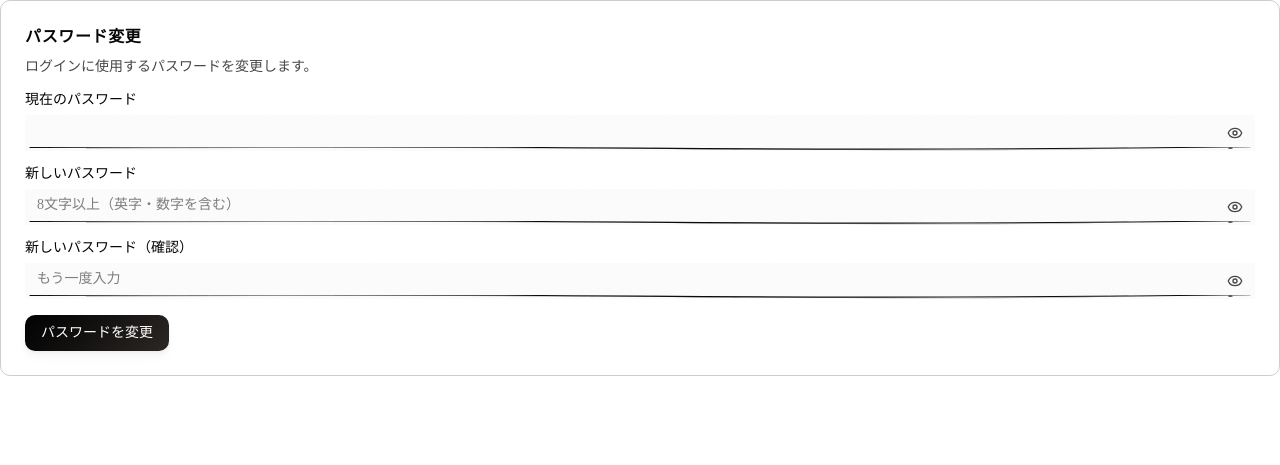
Test case: PasswordChangeForm › クライアント側検証 › 新しいパスワードの強度が不足している場合サーバーへ送らずエラーを表示する
In the password field labelled "現在のパスワード": (640, 133) [25,115,1255,151], type "currentPass1"
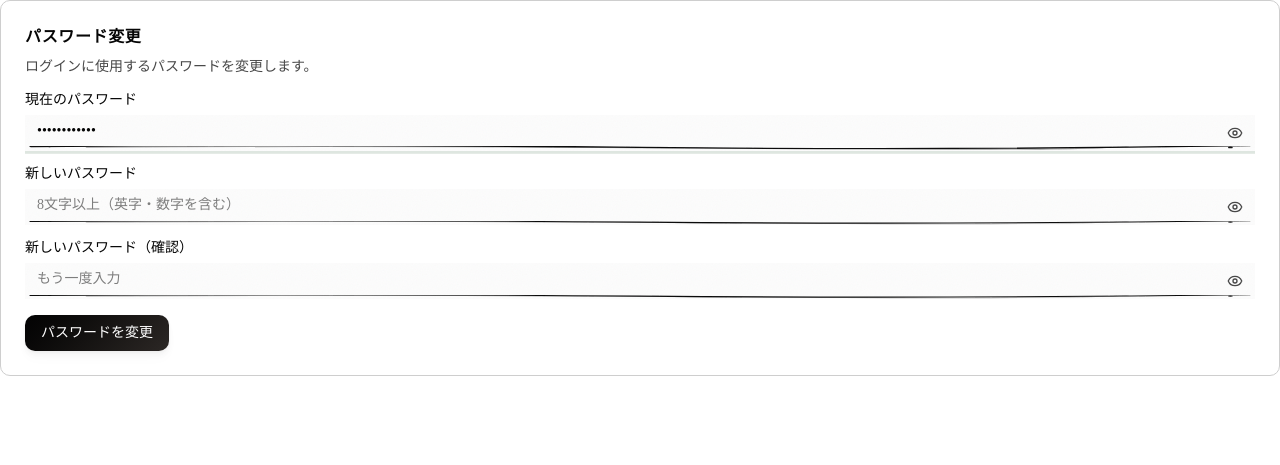
In the password field labelled "新しいパスワード": (640, 207) [25,189,1255,225], type "nonumberpass"
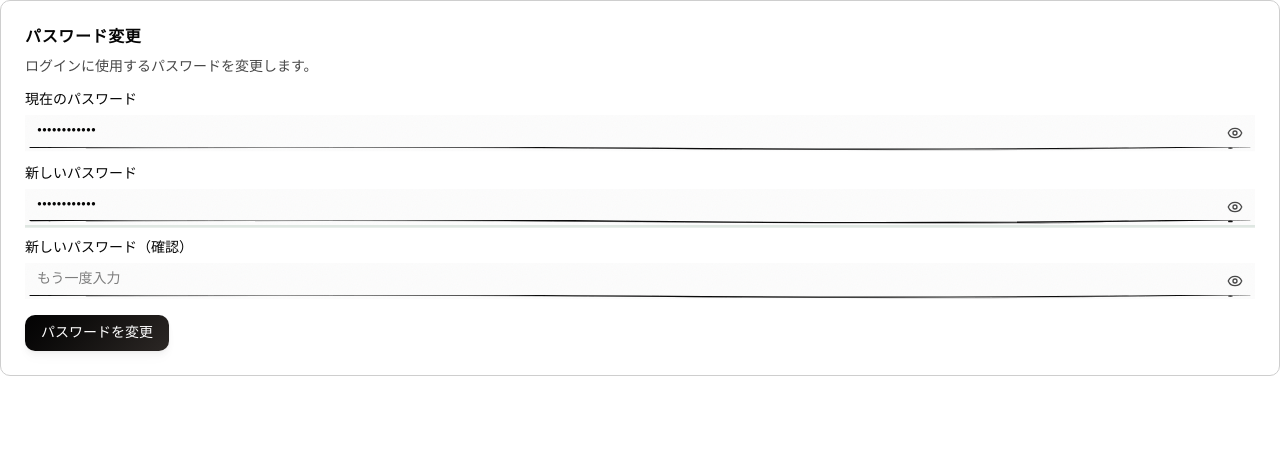
In the password field labelled "新しいパスワード（確認）": (640, 281) [25,263,1255,299], type "nonumberpass"
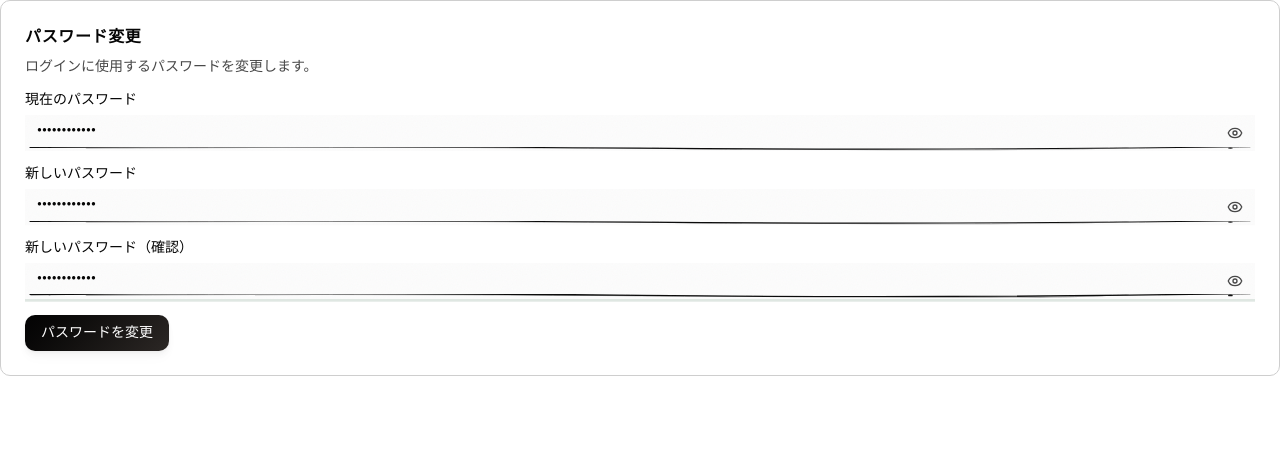
Click the button "パスワードを変更": (97, 333) [25,315,169,351]
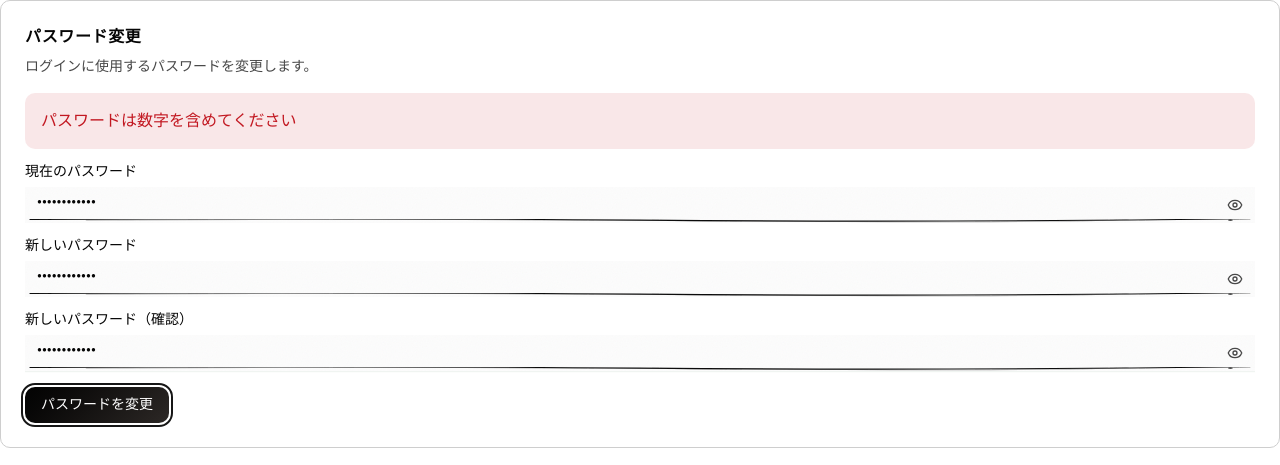
Expected: the text "パスワードは数字を含めてください" is shown, [25,93,1255,149]
